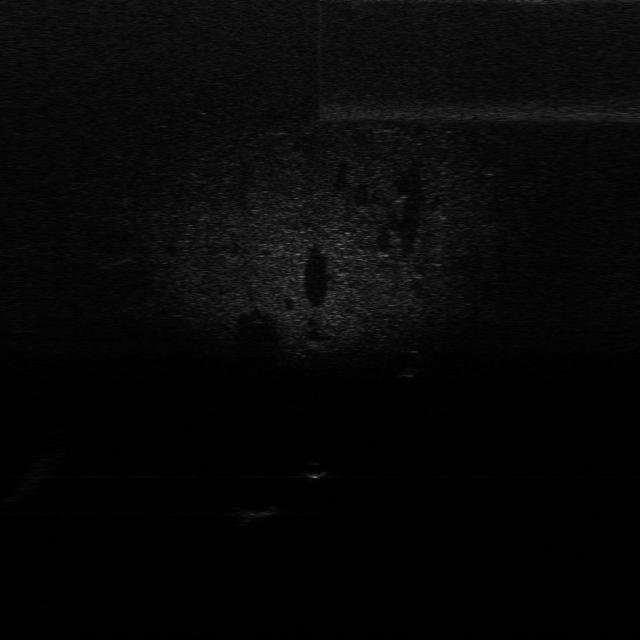ball: (300, 459, 330, 480)
square cage: (236, 500, 286, 520)
tyre: (396, 346, 424, 379)
